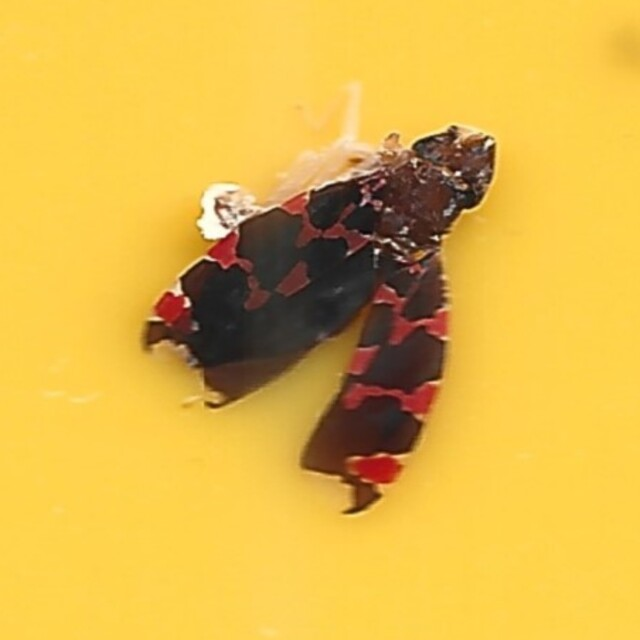Hemiptera: (142, 123, 498, 517)
